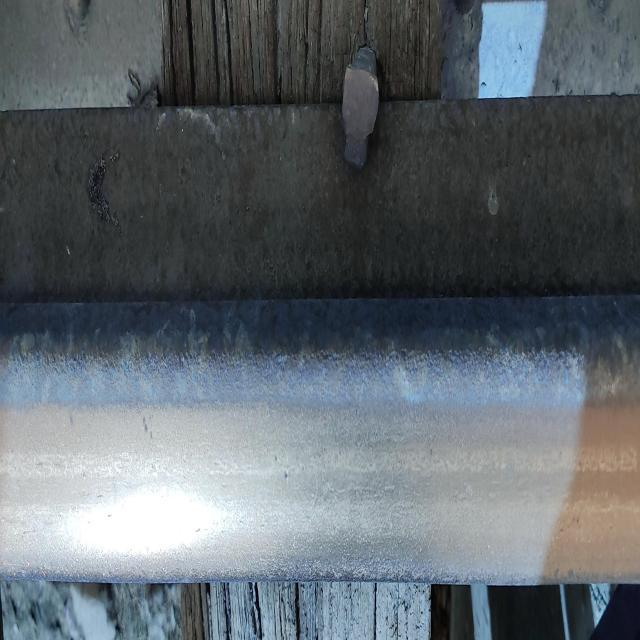Good Fasteners: (342, 47, 379, 168)
